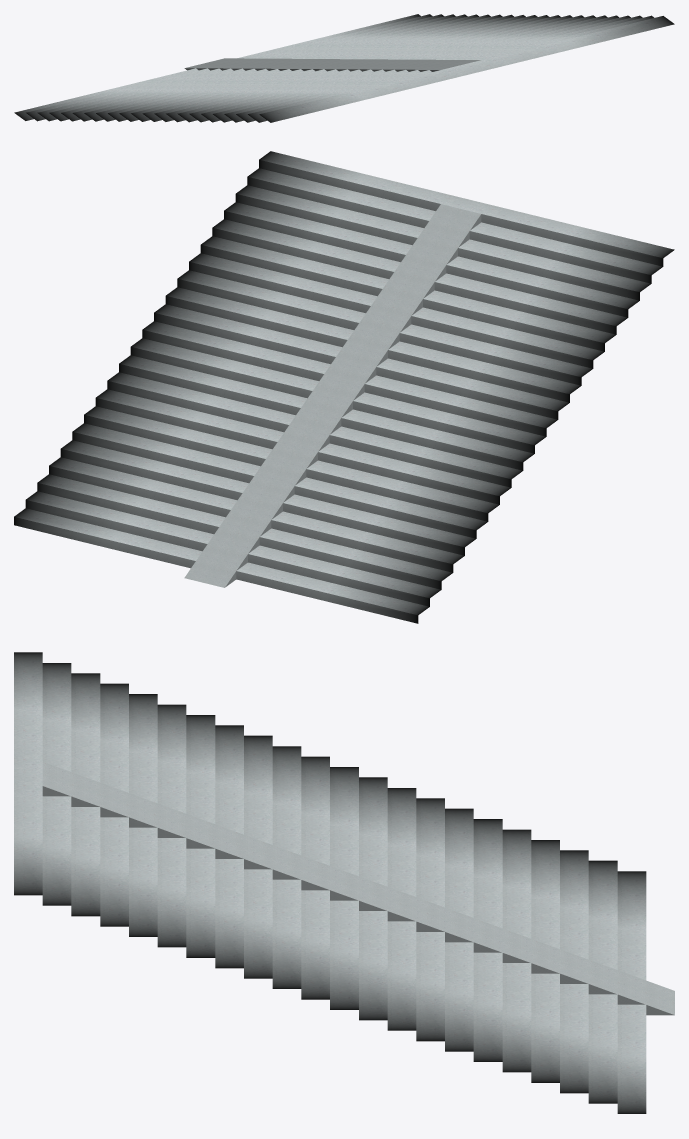
File: KOMIKE_04.glb
The picture shows the model from 3 angles, top to bottom: view 1: azimuth 30°, elevation 25°; view 2: azimuth 150°, elevation 25°; view 3: azimuth 270°, elevation 25°; orthographic projection. The views are drawn at different scales.
Visible parts, largest first — view 1: kaidan; view 2: kaidan; view 3: kaidan.
Part boxes in pixels (x1,y1,x2,y2): kaidan: (14,14,674,122); kaidan: (14,151,674,623); kaidan: (14,652,674,1113).
Size of the model in its own units: 100 by 44 by 115.
Materials: 1 (1 with a texture image).
